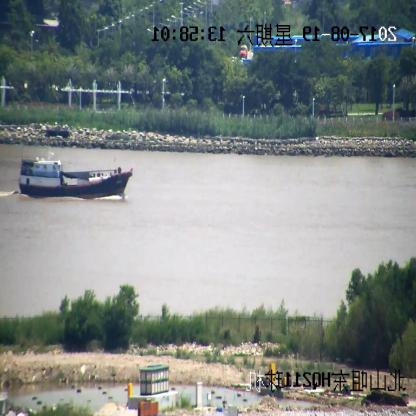Fishing Boat: (19, 157, 132, 200)
